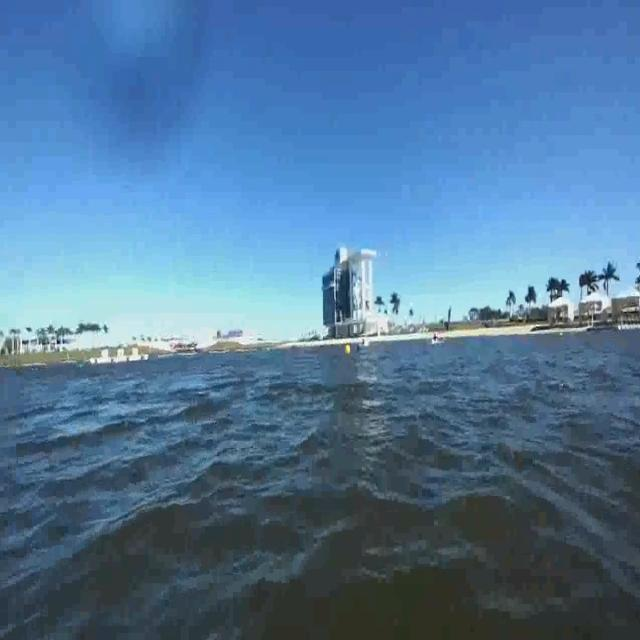yellow-buoy: (345, 343, 353, 357)
